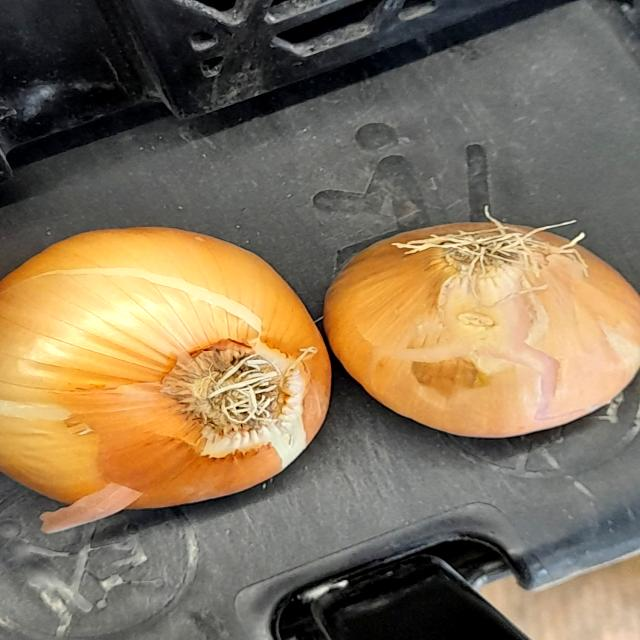onion: (0, 216, 344, 526), (328, 204, 640, 452)
